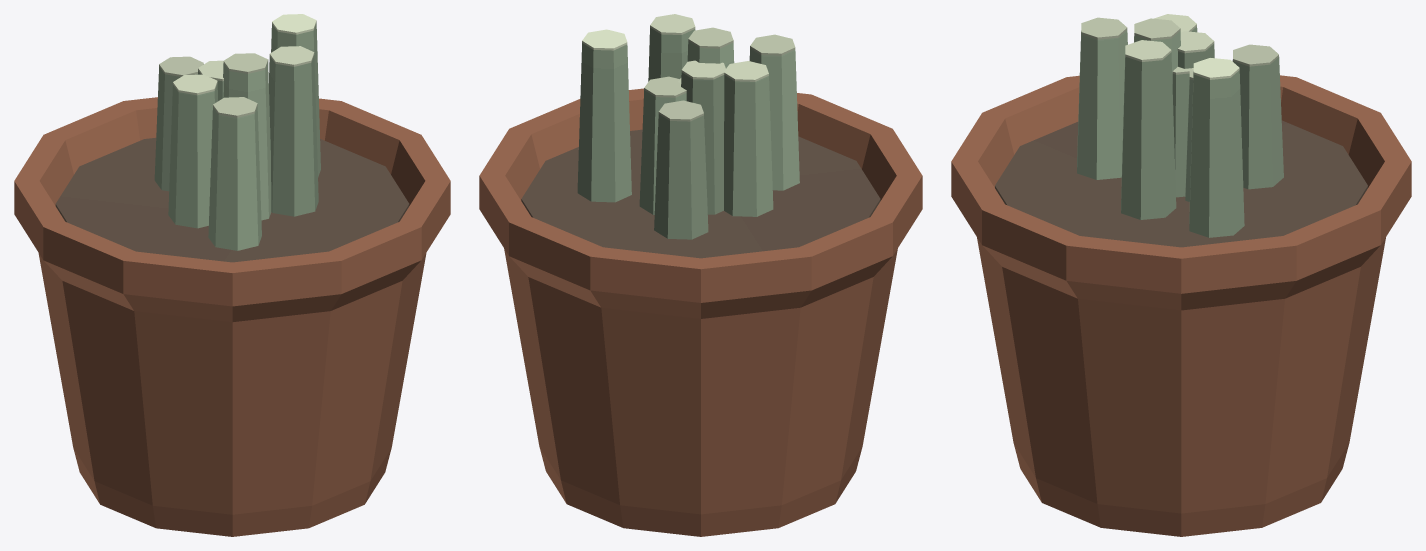
File: new-rhopalophylla.glb
3 renders of one model, left to right at view 1: azimuth 30°, elevation 25°; view 2: azimuth 150°, elevation 25°; view 3: azimuth 270°, elevation 25°, orthographic. The views are drawn at different scales.
Parts seen in each view (by area): view 1: new-rhopalophylla/review-terra-vessel, new-rhopalophylla/review-rooted-soil, new-rhopalophylla/cylindrical-leaf-011, new-rhopalophylla/cylindrical-leaf-015, new-rhopalophylla/cylindrical-leaf-009, new-rhopalophylla/cylindrical-leaf-005, new-rhopalophylla/cylindrical-leaf-013, new-rhopalophylla/cylindrical-leaf-017, new-rhopalophylla/leaf-window-006, new-rhopalophylla/leaf-window-012, new-rhopalophylla/leaf-window-016, new-rhopalophylla/leaf-window-010 (+2 smaller); view 2: new-rhopalophylla/review-terra-vessel, new-rhopalophylla/review-rooted-soil, new-rhopalophylla/cylindrical-leaf-017, new-rhopalophylla/cylindrical-leaf-009, new-rhopalophylla/cylindrical-leaf-013, new-rhopalophylla/cylindrical-leaf-015, new-rhopalophylla/cylindrical-leaf-003, new-rhopalophylla/cylindrical-leaf-007, new-rhopalophylla/cylindrical-leaf-011, new-rhopalophylla/cylindrical-leaf-005, new-rhopalophylla/leaf-window-006, new-rhopalophylla/leaf-window-016 (+6 smaller); view 3: new-rhopalophylla/review-terra-vessel, new-rhopalophylla/review-rooted-soil, new-rhopalophylla/cylindrical-leaf-017, new-rhopalophylla/cylindrical-leaf-011, new-rhopalophylla/cylindrical-leaf-015, new-rhopalophylla/cylindrical-leaf-013, new-rhopalophylla/cylindrical-leaf-001, new-rhopalophylla/leaf-window-016, new-rhopalophylla/leaf-window-012, new-rhopalophylla/leaf-window-018, new-rhopalophylla/leaf-window-006, new-rhopalophylla/leaf-window-014 (+2 smaller).
Part boxes in pixels (x1=…): new-rhopalophylla/review-terra-vessel: x1=14, y1=97, x2=450, y2=536; new-rhopalophylla/review-rooted-soil: x1=55, y1=137, x2=409, y2=262; new-rhopalophylla/cylindrical-leaf-011: x1=269, y1=55, x2=318, y2=216; new-rhopalophylla/cylindrical-leaf-015: x1=208, y1=106, x2=261, y2=250; new-rhopalophylla/cylindrical-leaf-009: x1=168, y1=83, x2=218, y2=228; new-rhopalophylla/cylindrical-leaf-005: x1=223, y1=62, x2=271, y2=220; new-rhopalophylla/cylindrical-leaf-013: x1=154, y1=66, x2=197, y2=191; new-rhopalophylla/cylindrical-leaf-017: x1=271, y1=23, x2=320, y2=177; new-rhopalophylla/leaf-window-006: x1=223, y1=53, x2=268, y2=73; new-rhopalophylla/leaf-window-012: x1=269, y1=46, x2=314, y2=66; new-rhopalophylla/leaf-window-016: x1=213, y1=97, x2=257, y2=117; new-rhopalophylla/leaf-window-010: x1=173, y1=74, x2=217, y2=95; new-rhopalophylla/review-terra-vessel: x1=479, y1=88, x2=922, y2=536; new-rhopalophylla/review-rooted-soil: x1=521, y1=129, x2=880, y2=258; new-rhopalophylla/cylindrical-leaf-017: x1=577, y1=43, x2=631, y2=202; new-rhopalophylla/cylindrical-leaf-009: x1=724, y1=75, x2=773, y2=216; new-rhopalophylla/cylindrical-leaf-013: x1=654, y1=114, x2=708, y2=239; new-rhopalophylla/cylindrical-leaf-015: x1=749, y1=48, x2=799, y2=190; new-rhopalophylla/cylindrical-leaf-003: x1=681, y1=72, x2=724, y2=214; new-rhopalophylla/cylindrical-leaf-007: x1=639, y1=90, x2=686, y2=214; new-rhopalophylla/cylindrical-leaf-011: x1=648, y1=27, x2=695, y2=81; new-rhopalophylla/cylindrical-leaf-005: x1=687, y1=41, x2=734, y2=68; new-rhopalophylla/leaf-window-006: x1=688, y1=27, x2=733, y2=48; new-rhopalophylla/leaf-window-016: x1=750, y1=34, x2=795, y2=55; new-rhopalophylla/review-terra-vessel: x1=951, y1=75, x2=1411, y2=536; new-rhopalophylla/review-rooted-soil: x1=995, y1=120, x2=1367, y2=247; new-rhopalophylla/cylindrical-leaf-017: x1=1189, y1=70, x2=1244, y2=237; new-rhopalophylla/cylindrical-leaf-011: x1=1121, y1=52, x2=1176, y2=219; new-rhopalophylla/cylindrical-leaf-015: x1=1077, y1=30, x2=1127, y2=179; new-rhopalophylla/cylindrical-leaf-013: x1=1232, y1=57, x2=1283, y2=189; new-rhopalophylla/cylindrical-leaf-001: x1=1172, y1=73, x2=1189, y2=197; new-rhopalophylla/leaf-window-016: x1=1081, y1=17, x2=1127, y2=39; new-rhopalophylla/leaf-window-012: x1=1125, y1=40, x2=1171, y2=61; new-rhopalophylla/leaf-window-018: x1=1193, y1=58, x2=1239, y2=79; new-rhopalophylla/leaf-window-006: x1=1134, y1=18, x2=1180, y2=40; new-rhopalophylla/leaf-window-014: x1=1233, y1=44, x2=1278, y2=66.
Bounding box in the file's own units: 0.19 × 0.201 × 0.19.
4 materials, 4 textured.
